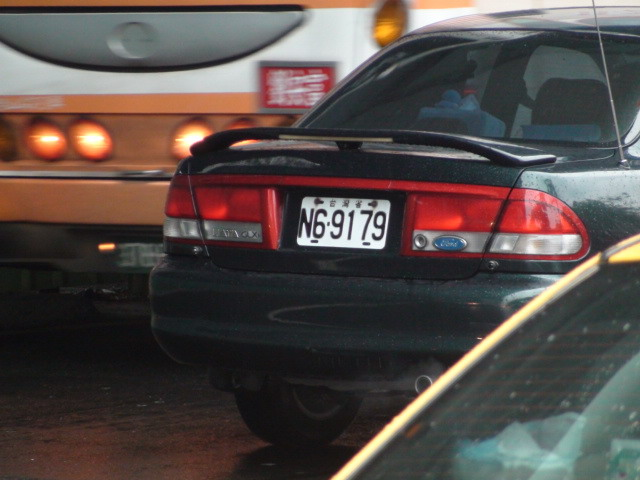plate: (293, 191, 397, 255)
